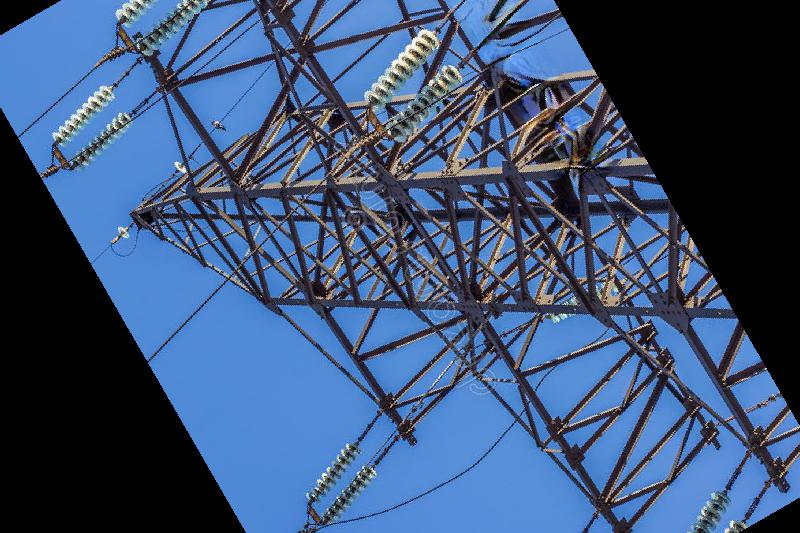insulator: (359, 26, 443, 115), (382, 59, 466, 146), (46, 81, 119, 150), (66, 109, 134, 175), (132, 1, 208, 59), (301, 438, 363, 506), (320, 458, 378, 526), (686, 485, 733, 533), (110, 1, 156, 31)
